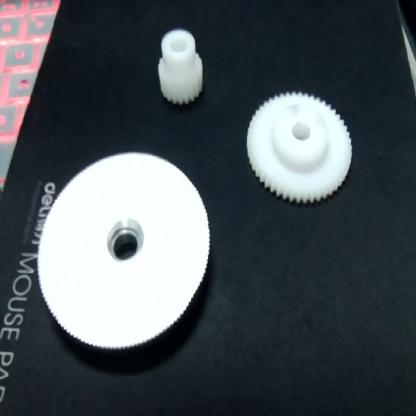FOD: (28, 144, 210, 364), (241, 81, 355, 210), (149, 21, 206, 113)
